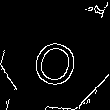O_N: (28, 26, 84, 87)
